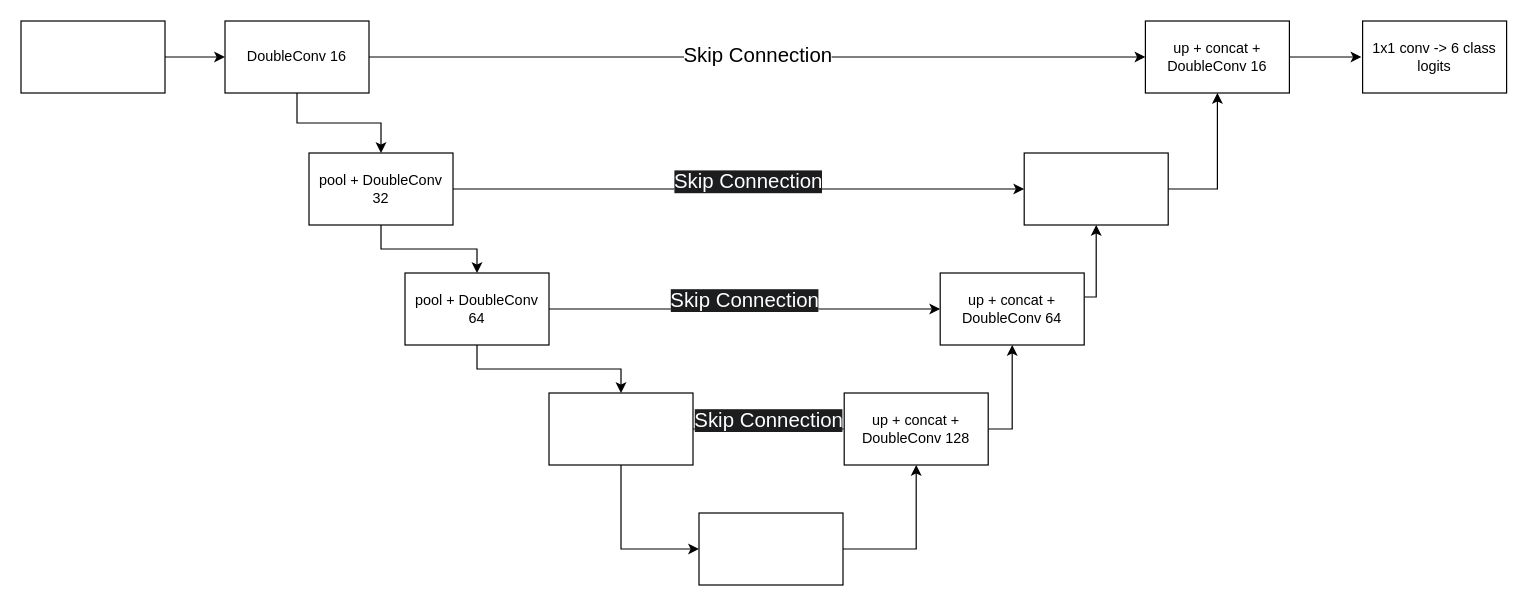
This 1528x606 diagram has some shape labels left out. The centre of each missing label's shape, as x and y in pixels:
"MRI Volume or Slice 1 channel" goes at [92,56].
"pool + DoubleConv 128" goes at [620,428].
"pool + DoubleConv 256 bottleneck" goes at [770,548].
"up + concat + DoubleConv 32" goes at [1095,188].
